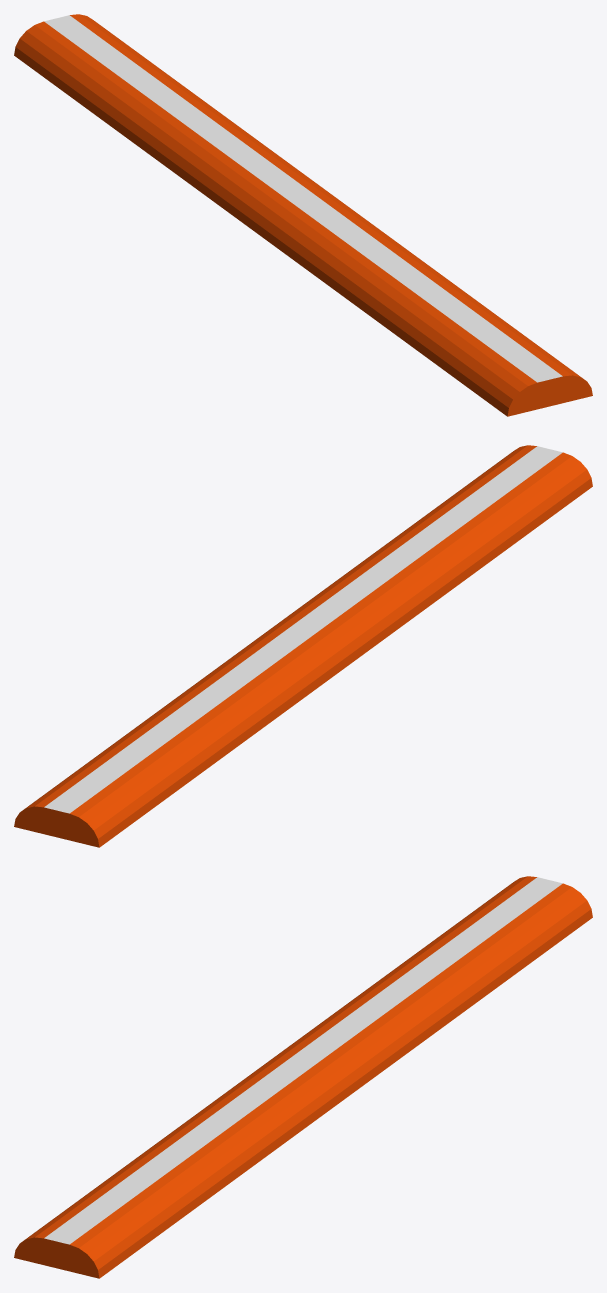
The model's file is SM_LightEmissive.fbx.
3 renders of one model, top to bottom at view 1: azimuth 30°, elevation 25°; view 2: azimuth 150°, elevation 25°; view 3: azimuth 330°, elevation 25°, orthographic.
Parts seen in each view (by area): view 1: LightEmissive; view 2: LightEmissive; view 3: LightEmissive.
Boxes of the visible parts, x1=… form: LightEmissive: x1=14, y1=14, x2=592, y2=416; LightEmissive: x1=14, y1=445, x2=592, y2=847; LightEmissive: x1=14, y1=876, x2=592, y2=1278.
Size of what is drawn, in the model's own units: 10 by 3 by 100.
